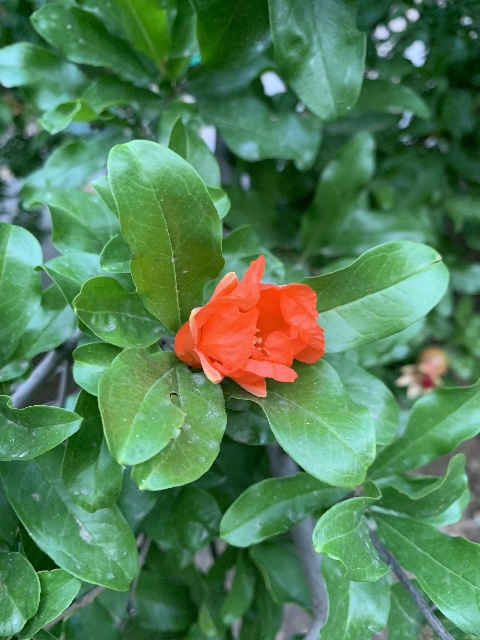early-fruit: (393, 345, 449, 400)
flower: (173, 253, 324, 397)
